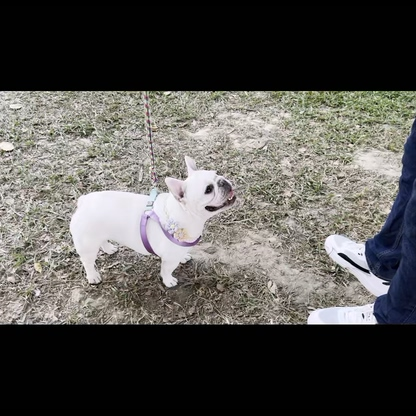bulldog: (68, 153, 238, 293)
